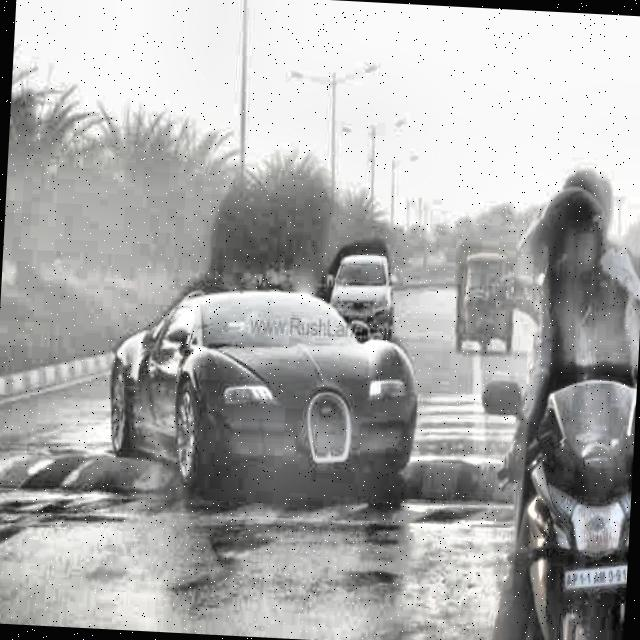license_plate: (562, 556, 628, 600)
